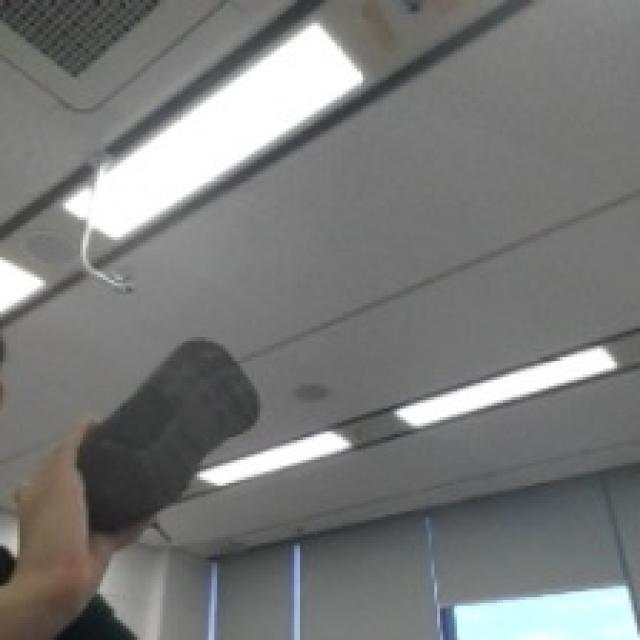shoe: (38, 315, 278, 550)
